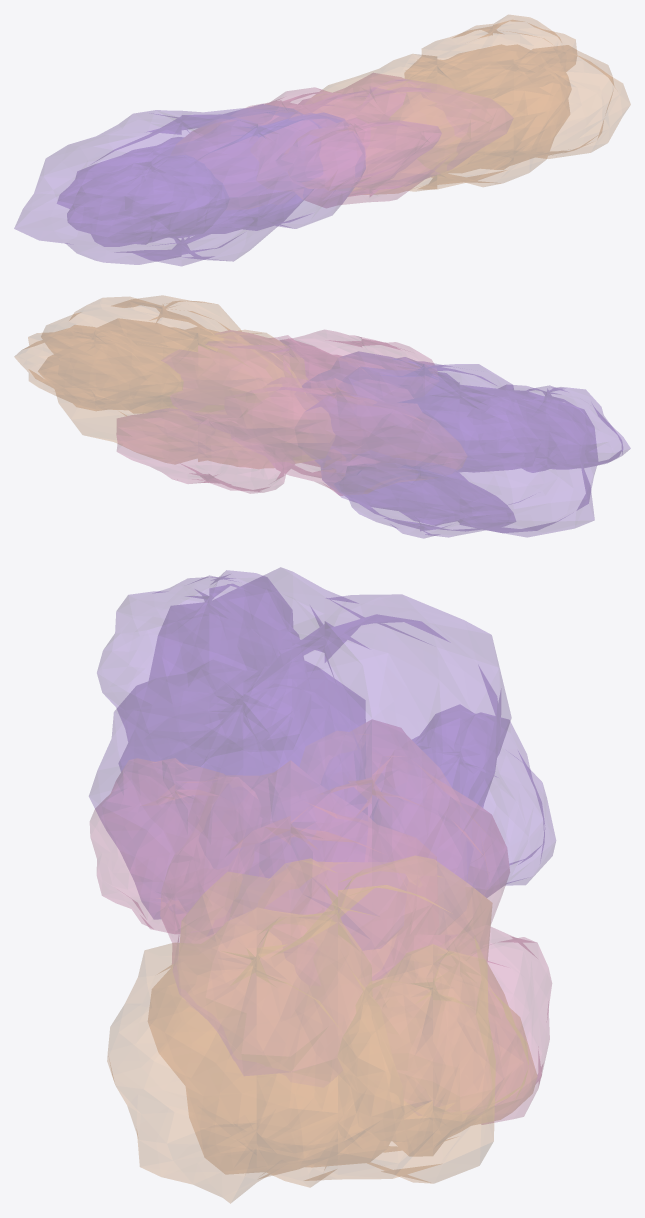
File: nebulosa.obj
The picture shows the model from 3 angles, top to bottom: view 1: azimuth 30°, elevation 25°; view 2: azimuth 150°, elevation 25°; view 3: azimuth 270°, elevation 25°; orthographic projection. The views are drawn at different scales.
Size of the model in its own units: 19.6 by 4.65 by 6.9.
